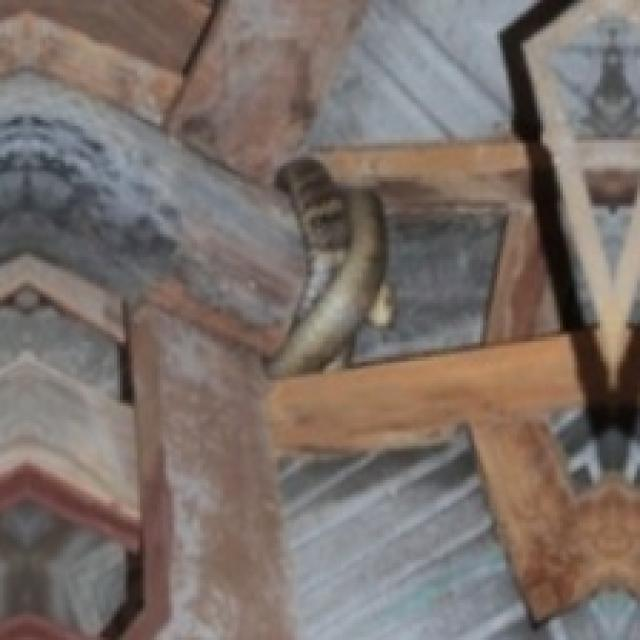king cobra: (269, 157, 383, 374)
